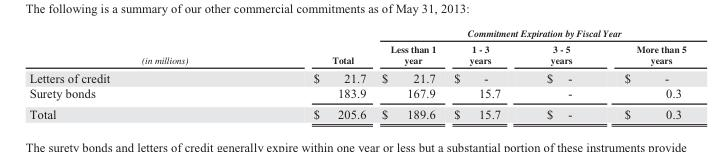table: (28, 29, 685, 120)
table column: (28, 29, 250, 120), (250, 29, 373, 120), (597, 29, 685, 120), (444, 29, 523, 120), (523, 29, 597, 120), (373, 29, 444, 120)
table column header: (28, 29, 685, 68)
table row: (28, 41, 685, 68), (28, 85, 685, 103), (28, 68, 685, 85), (28, 103, 685, 120), (28, 29, 685, 41)
table spanning cell: (28, 29, 250, 68), (250, 29, 373, 68), (373, 29, 685, 41)
